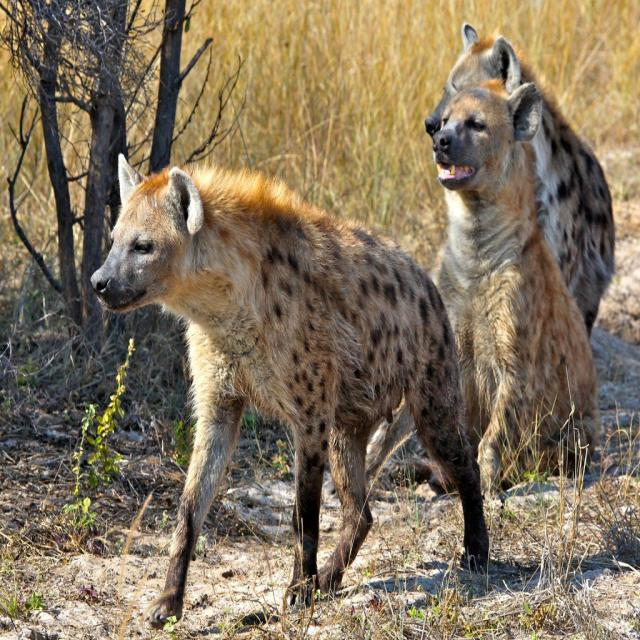Hyena: (96, 153, 496, 606), (425, 82, 601, 500)
